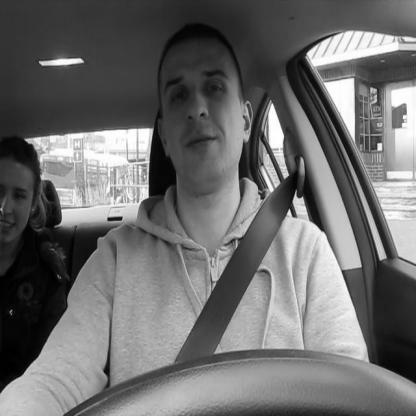seatbelt: (138, 9, 312, 357)
